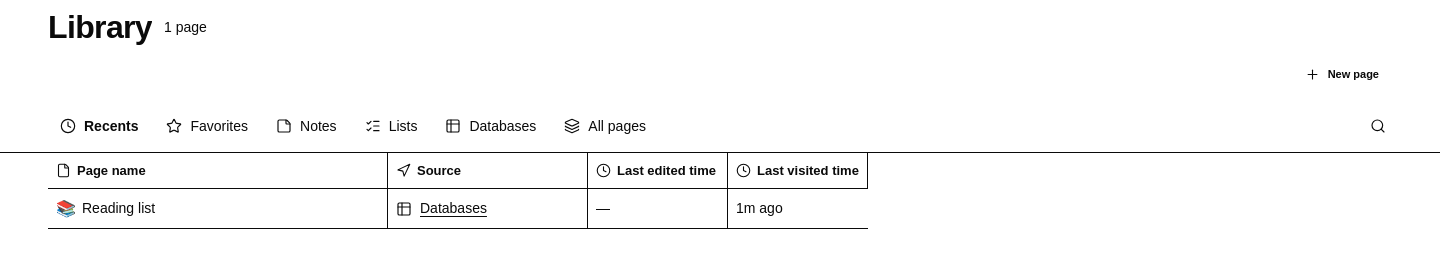
Test case: LibraryPage › says what to do when there are no favorites
What coordinates should you click on to do the following:
click the tab "Favorites"
I would click on:
 (207, 126)
Its box is [154,110,260,142].
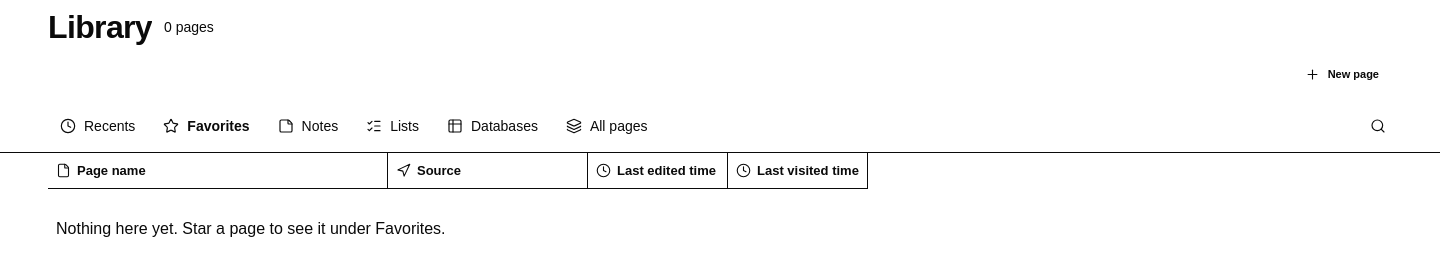
Now the text "Nothing here yet. Star a page to see it under Favorites." is shown, box [56,220,446,237]
Now the text "0 pages" is shown, box [164,17,214,38]
